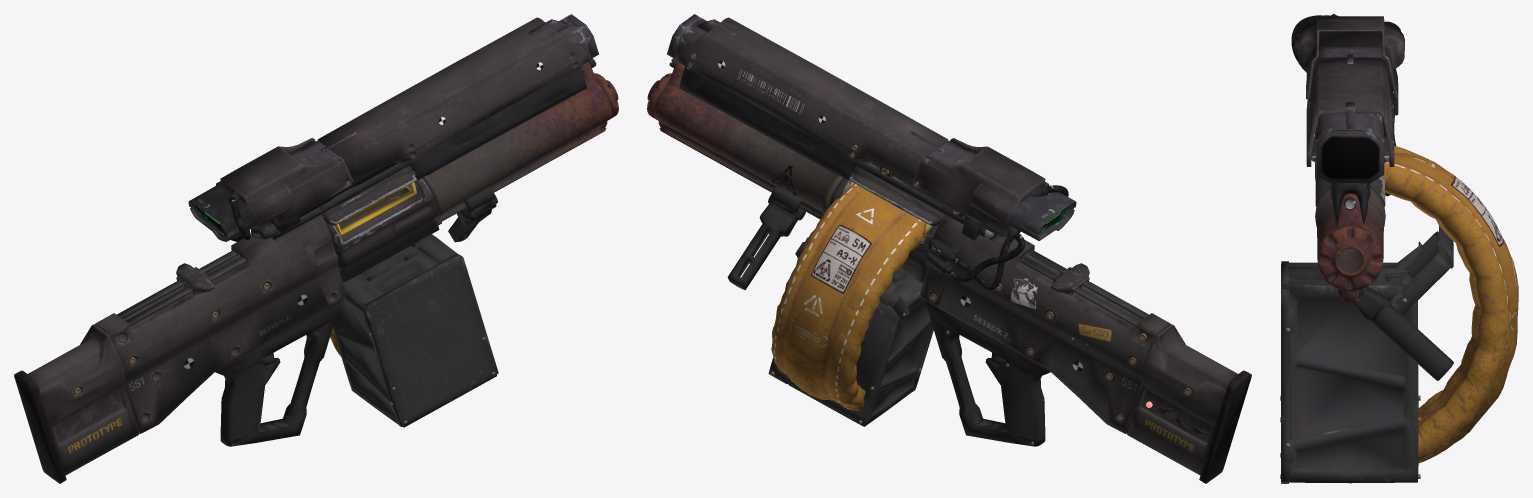
The picture shows the model from 3 angles, left to right: view 1: azimuth 30°, elevation 25°; view 2: azimuth 150°, elevation 25°; view 3: azimuth 270°, elevation 25°; orthographic projection. The views are drawn at different scales.
Parts seen in each view (by area): view 1: Militech Hercules; view 2: Militech Hercules; view 3: Militech Hercules.
Part boxes in pixels (left/top/right/bottom): Militech Hercules: left=14, top=14, right=618, bottom=483; Militech Hercules: left=647, top=14, right=1251, bottom=483; Militech Hercules: left=1280, top=14, right=1518, bottom=483.
Size of the model in its own units: 0.833 by 0.4678 by 0.2135.
7 materials, 7 textured.
